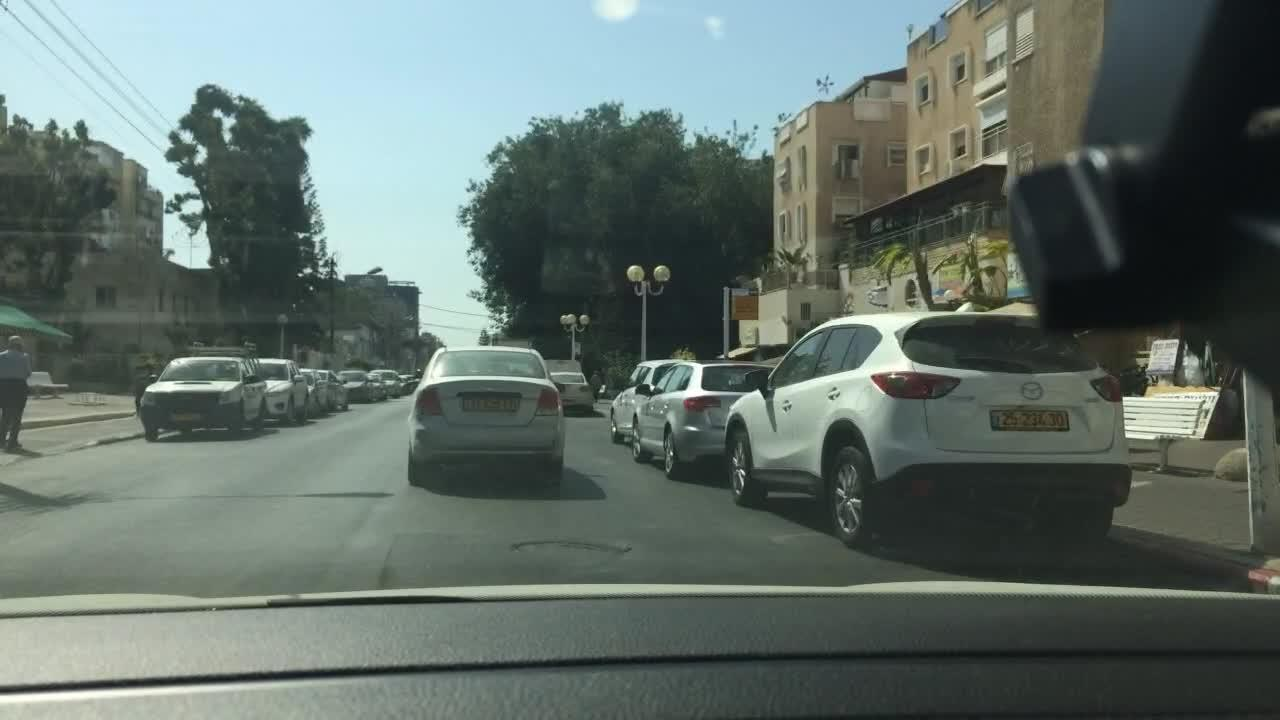Mazda: (1017, 380, 1047, 404)
